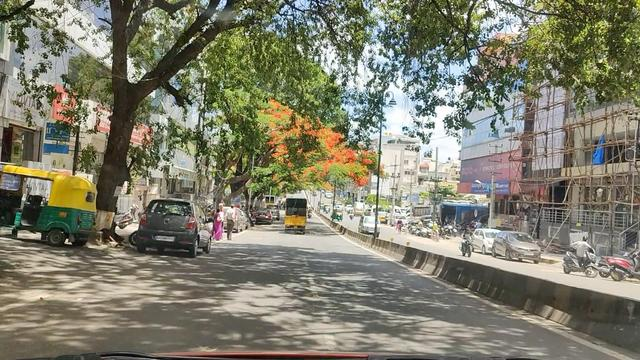HMV: (288, 198, 305, 232)
LMV: (136, 202, 200, 251)
